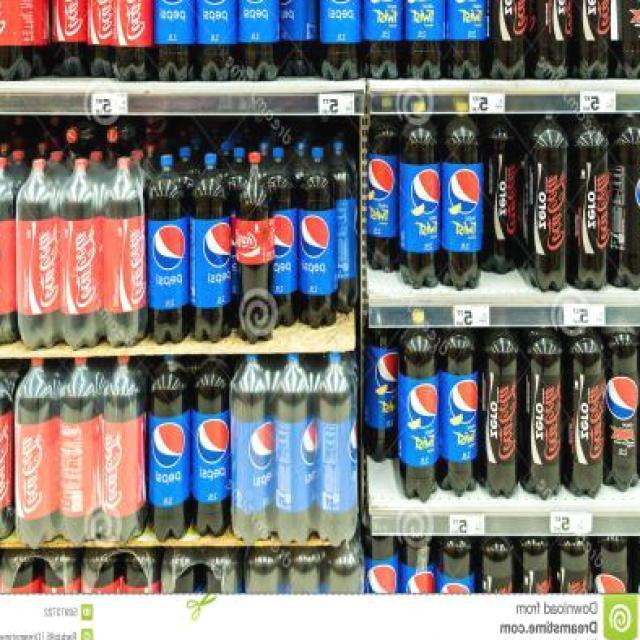Drinks: (102, 354, 150, 544), (57, 356, 102, 548), (13, 357, 58, 549), (101, 158, 146, 348), (16, 157, 60, 351), (188, 152, 232, 344), (59, 158, 103, 350), (229, 353, 273, 544), (146, 154, 190, 344), (274, 352, 316, 546), (148, 354, 190, 543), (234, 152, 274, 344), (526, 113, 568, 294), (520, 328, 564, 500), (316, 353, 355, 545), (440, 113, 482, 290), (399, 113, 441, 290), (564, 326, 606, 502), (190, 354, 230, 536), (298, 146, 337, 328), (568, 113, 608, 290), (397, 328, 438, 500), (478, 328, 519, 499), (438, 329, 479, 498), (482, 113, 522, 274), (263, 144, 297, 326), (604, 328, 640, 494), (609, 112, 640, 288), (367, 114, 400, 273), (362, 326, 397, 464), (0, 156, 16, 348), (0, 358, 15, 548)
